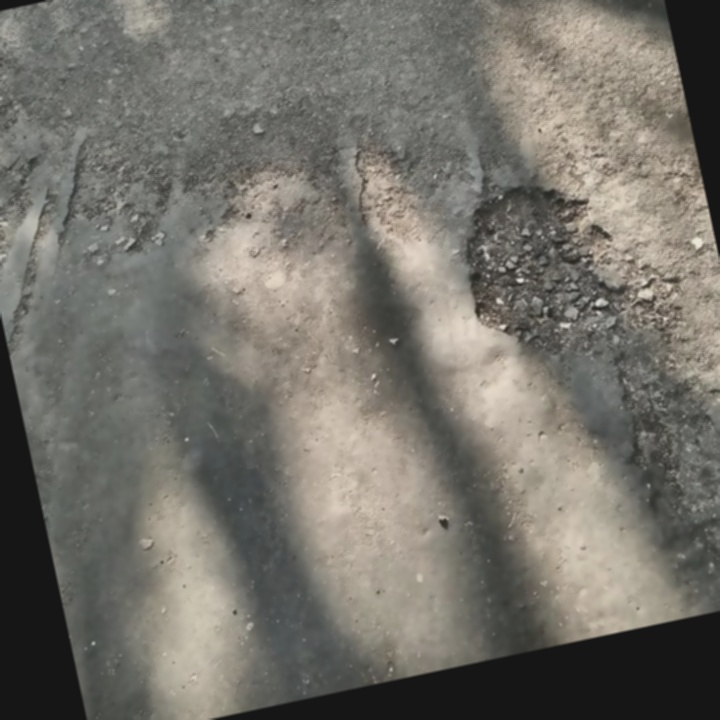pothole: (440, 158, 653, 365)
